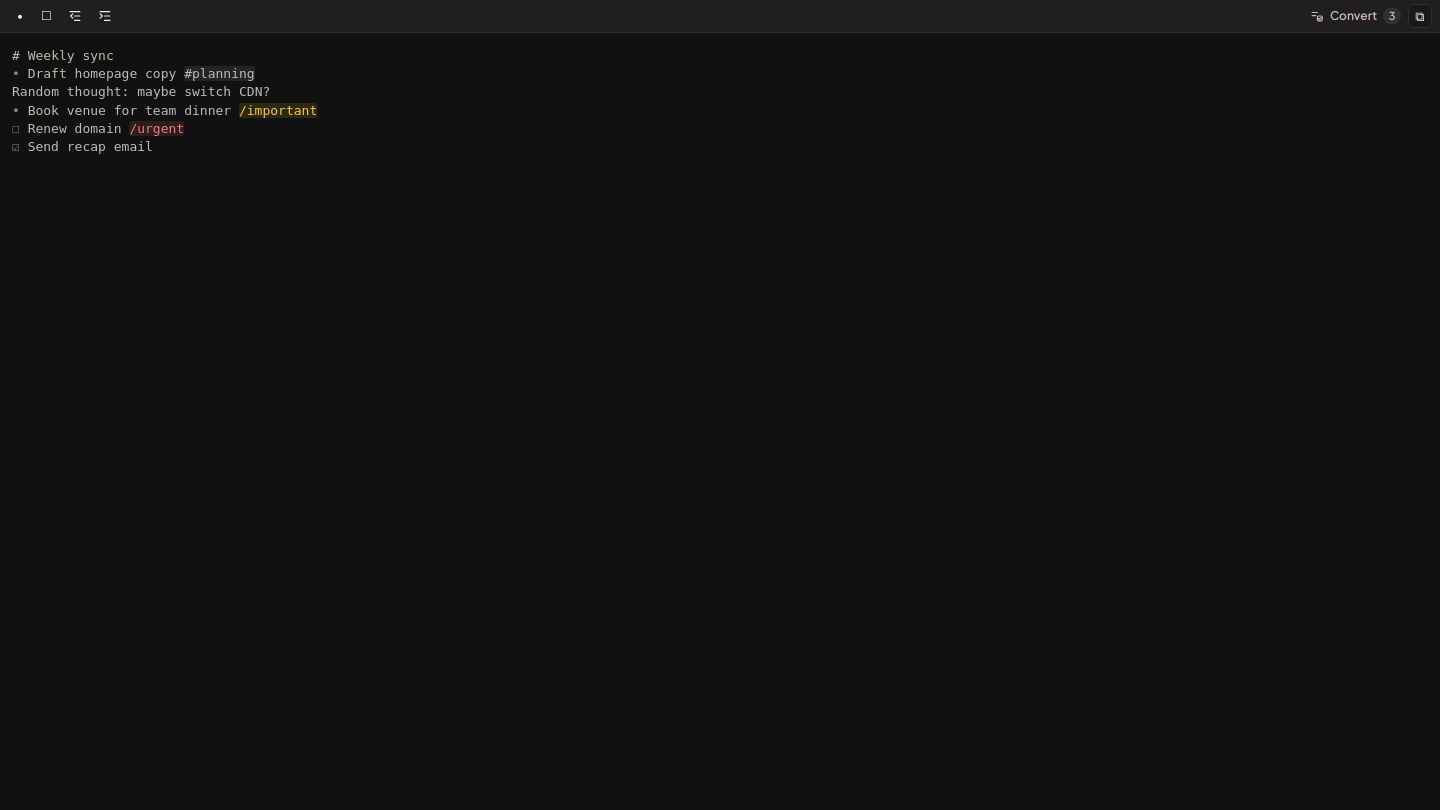
Test: Convert preview › Cancel / Esc closes it without touching tasks or the note
The width and height of the screenshot is (1440, 810).
Click the button "Convert 3" at (1354, 16), box [1303,4,1406,28]
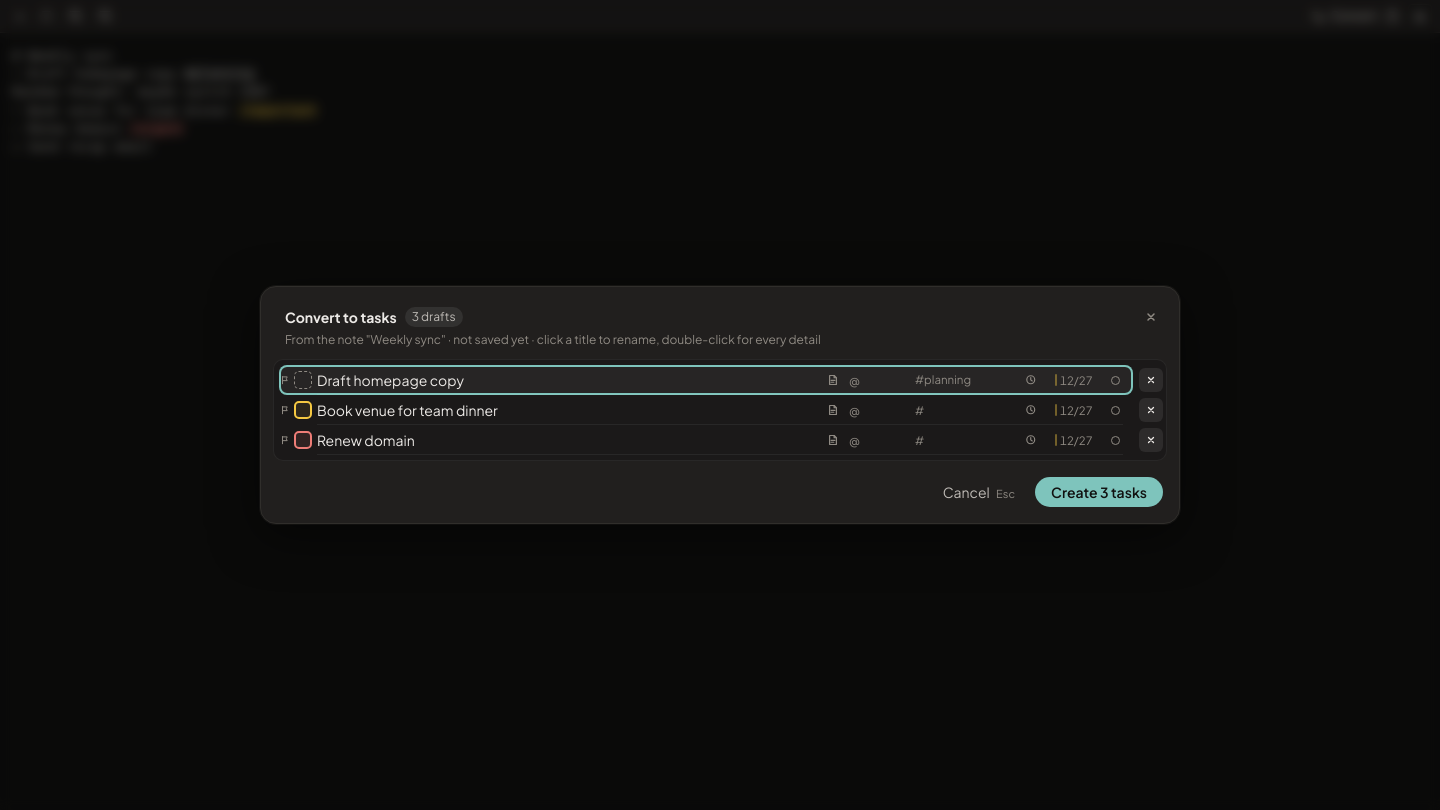
Press Escape in the dialog "Convert to tasks", box [260,286,1180,524]
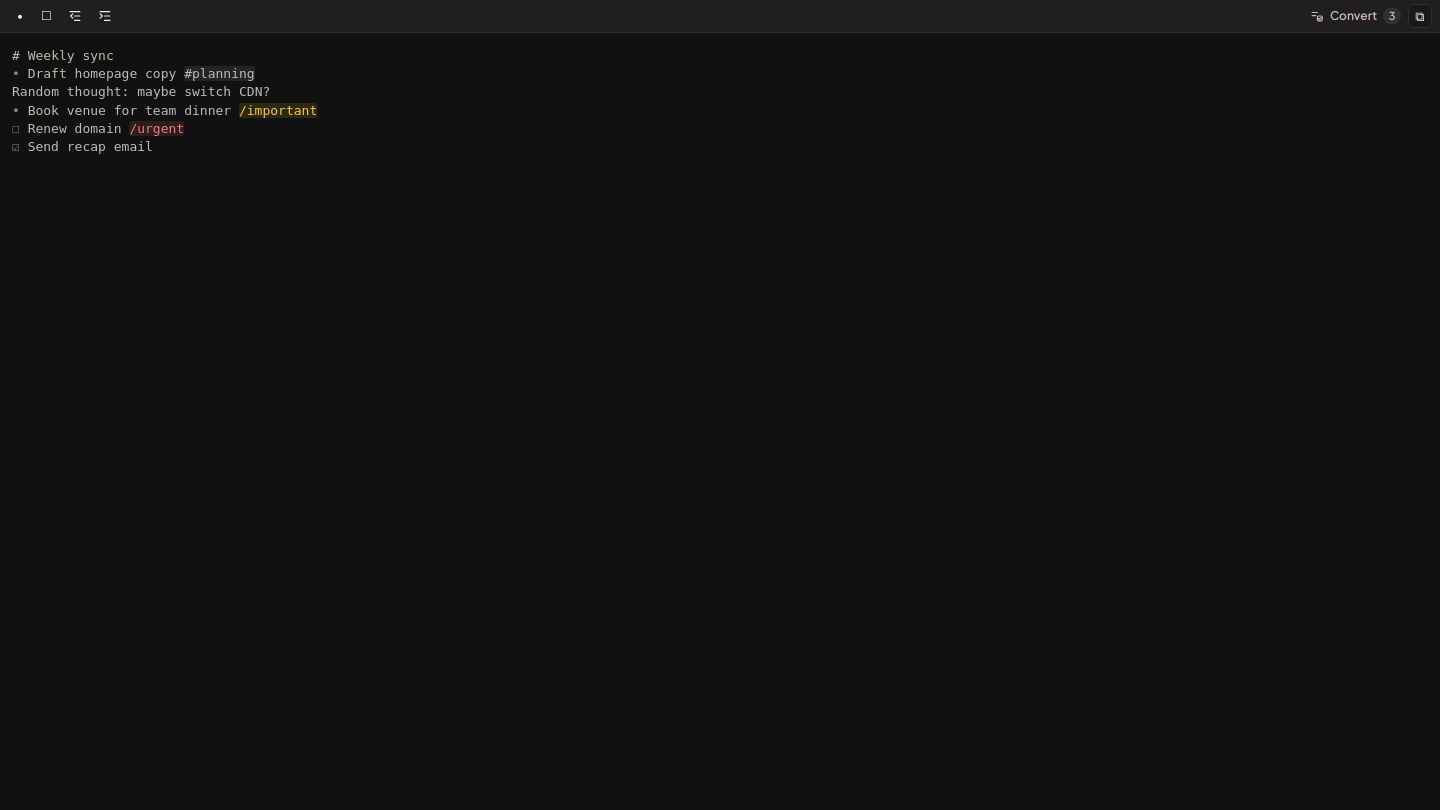
Now the heading "Convert to tasks" is gone
